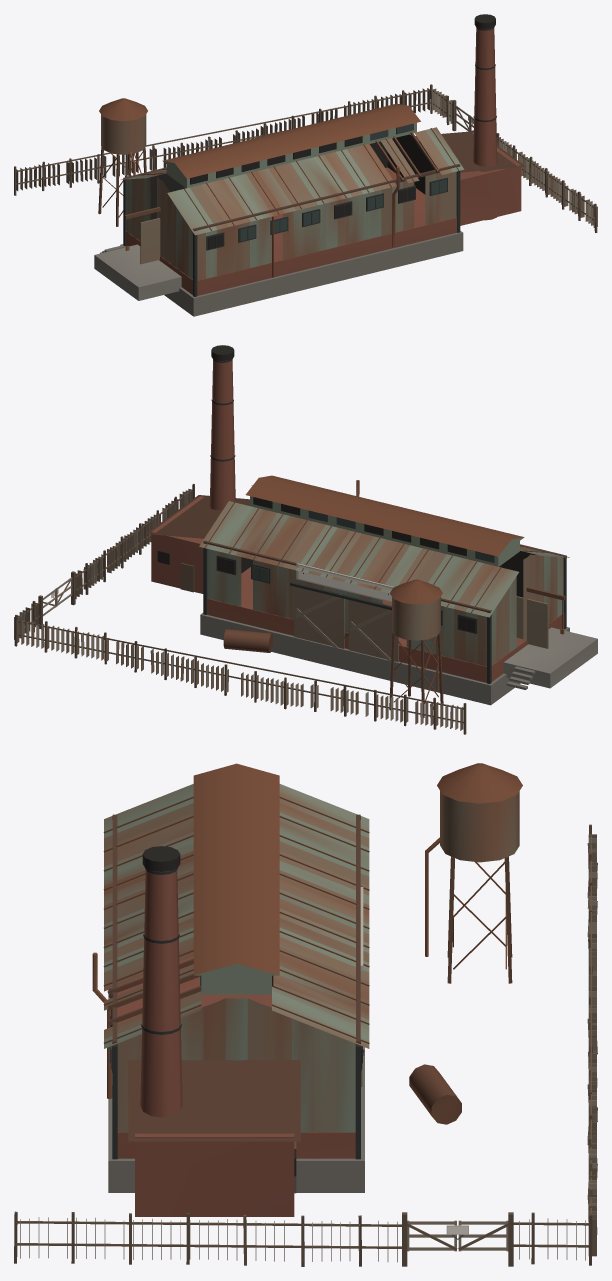
3 views of the same model, one above another, from view 1: azimuth 30°, elevation 25°; view 2: azimuth 150°, elevation 25°; view 3: azimuth 270°, elevation 25° (orthographic). The views are drawn at different scales.
Parts seen in each view (by area): view 1: cannery, cannery_fence; view 2: cannery, cannery_fence, label_cannery_sign; view 3: cannery, cannery_fence.
Boxes of the visible parts, x1,y1,x2,y2 form: cannery: [94, 14, 525, 316]; cannery_fence: [14, 84, 597, 232]; cannery: [146, 345, 597, 717]; cannery_fence: [14, 483, 466, 734]; label_cannery_sign: [298, 566, 392, 601]; cannery: [92, 763, 522, 1216]; cannery_fence: [14, 824, 597, 1266].
Bounding box in the file's own units: 38.41 × 18.5 × 26.41.
